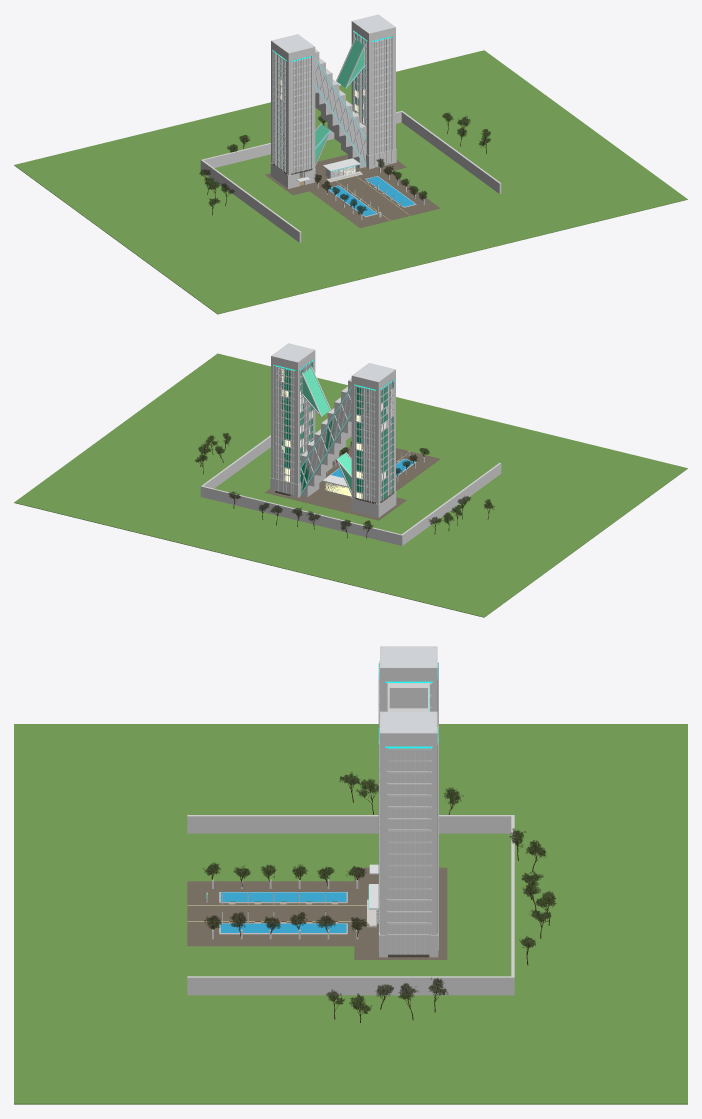
The model's file is plaza.glb.
3 renders of one model, top to bottom at view 1: azimuth 30°, elevation 25°; view 2: azimuth 150°, elevation 25°; view 3: azimuth 270°, elevation 25°, orthographic. The views are drawn at different scales.
Visible parts, largest first — view 1: V2_grass, COL_west_upper, COL_east_upper, V2_promenade, SPIRE_west_fins, SPIRE_east_fins, V2_trees, SPIRE_west_bands, COL_edge_e, COL_edge_w, SPIRE_east_bands, V2_forecourt (+4 smaller); view 2: V2_grass, COL_west_upper, COL_east_upper, SPIRE_west_fins, COL_edge_n, SPIRE_east_fins, V2_trees, SPIRE_west_glass, SPIRE_west_bands, SPIRE_east_bands, COL_edge_w, SPIRE_atrium_diagrid (+5 smaller); view 3: V2_grass, COL_east_upper, V2_promenade, COL_edge_e, V2_trees, COL_edge_w, SPIRE_east_fins, SPIRE_east_bands, V2_forecourt, COL_west_upper, SPIRE_west_bands, COL_east_ground (+3 smaller).
Part boxes in pixels (left/top/right/bottom): V2_grass: left=14, top=50, right=687, bottom=314; COL_west_upper: left=271, top=34, right=315, bottom=175; COL_east_upper: left=351, top=14, right=395, bottom=155; V2_promenade: left=310, top=172, right=440, bottom=227; SPIRE_west_fins: left=272, top=50, right=312, bottom=174; SPIRE_east_fins: left=353, top=30, right=392, bottom=165; V2_trees: left=199, top=112, right=490, bottom=215; SPIRE_west_bands: left=272, top=35, right=312, bottom=173; COL_edge_e: left=401, top=111, right=501, bottom=193; COL_edge_w: left=200, top=159, right=301, bottom=242; SPIRE_east_bands: left=353, top=15, right=393, bottom=154; V2_forecourt: left=265, top=154, right=406, bottom=195; V2_grass: left=14, top=353, right=687, bottom=617; COL_west_upper: left=351, top=363, right=395, bottom=503; COL_east_upper: left=271, top=343, right=315, bottom=484; SPIRE_west_fins: left=353, top=379, right=393, bottom=502; COL_edge_n: left=202, top=486, right=403, bottom=545; SPIRE_east_fins: left=273, top=359, right=313, bottom=494; V2_trees: left=194, top=433, right=494, bottom=538; SPIRE_west_glass: left=356, top=382, right=393, bottom=500; SPIRE_west_bands: left=354, top=364, right=394, bottom=496; SPIRE_east_bands: left=273, top=344, right=313, bottom=483; COL_edge_w: left=401, top=462, right=501, bottom=544; SPIRE_atrium_diagrid: left=300, top=385, right=351, bottom=496; V2_grass: left=14, top=724, right=687, bottom=1104; COL_east_upper: left=380, top=711, right=437, bottom=934; V2_promenade: left=187, top=881, right=354, bottom=946; COL_edge_e: left=187, top=976, right=514, bottom=995; V2_trees: left=202, top=772, right=556, bottom=1022; COL_edge_w: left=187, top=815, right=512, bottom=833; SPIRE_east_fins: left=378, top=726, right=438, bottom=954; SPIRE_east_bands: left=379, top=712, right=438, bottom=935; V2_forecourt: left=354, top=867, right=447, bottom=959; COL_west_upper: left=380, top=646, right=437, bottom=711; SPIRE_west_bands: left=379, top=647, right=438, bottom=716; COL_east_ground: left=379, top=932, right=438, bottom=957.
Size of the model in its own units: 280 by 77.7 by 210.
40 materials, 18 textured.
